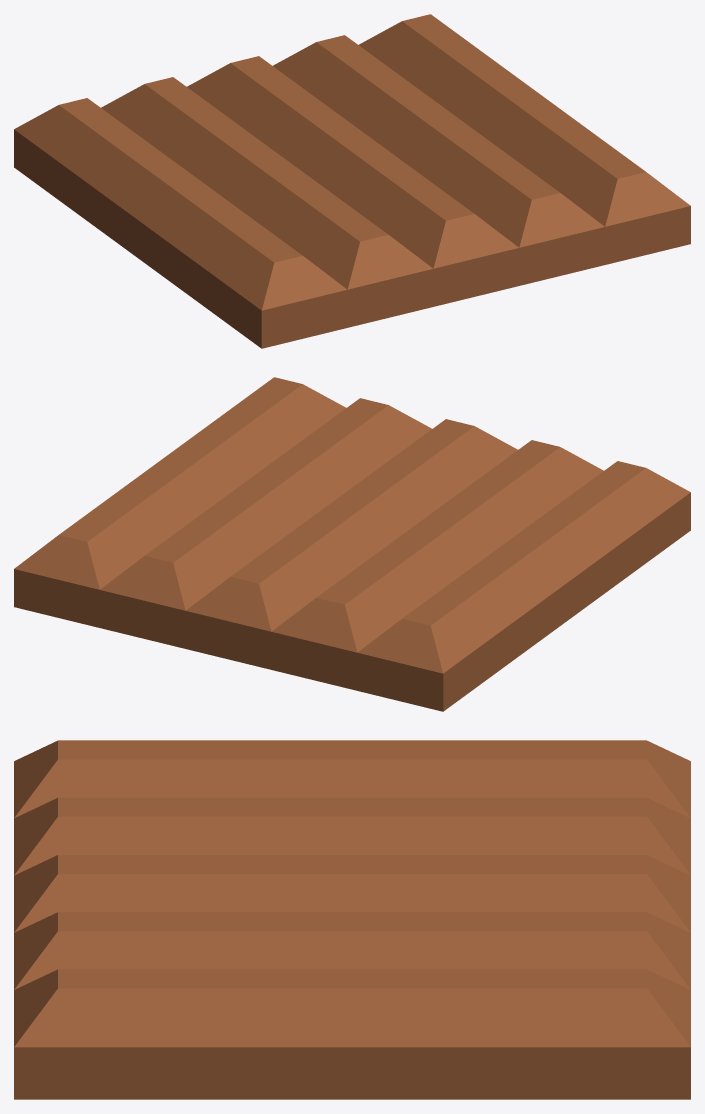
The model's file is Farmland.fbx.
3 views of the same model, one above another, from view 1: azimuth 30°, elevation 25°; view 2: azimuth 150°, elevation 25°; view 3: azimuth 270°, elevation 25° (orthographic). The views are drawn at different scales.
Parts seen in each view (by area): view 1: Farmland; view 2: Farmland; view 3: Farmland.
Boxes of the visible parts, x1,y1,x2,y2 form: Farmland: [14, 14, 690, 348]; Farmland: [14, 377, 690, 711]; Farmland: [14, 740, 690, 1099].
Size of the model in its own units: 100 by 15 by 100.
